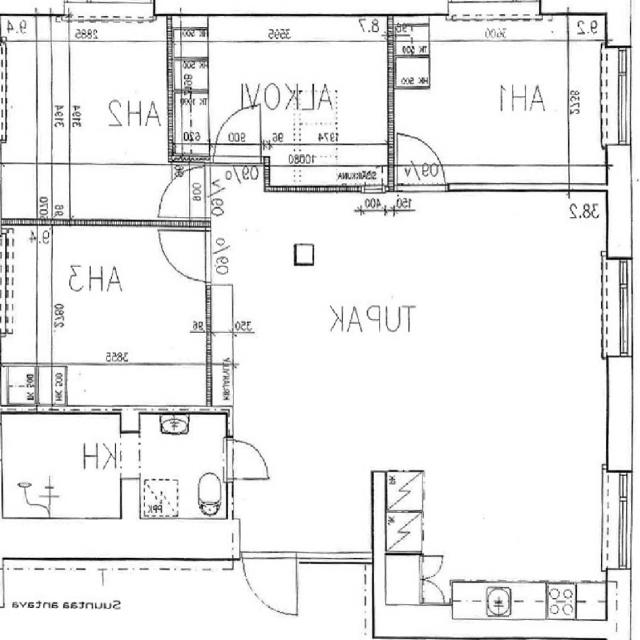door: (243, 552, 297, 618), (398, 130, 446, 192), (215, 104, 261, 163), (159, 230, 212, 281), (160, 166, 212, 216), (226, 441, 268, 478), (419, 578, 444, 602), (419, 555, 444, 578)
